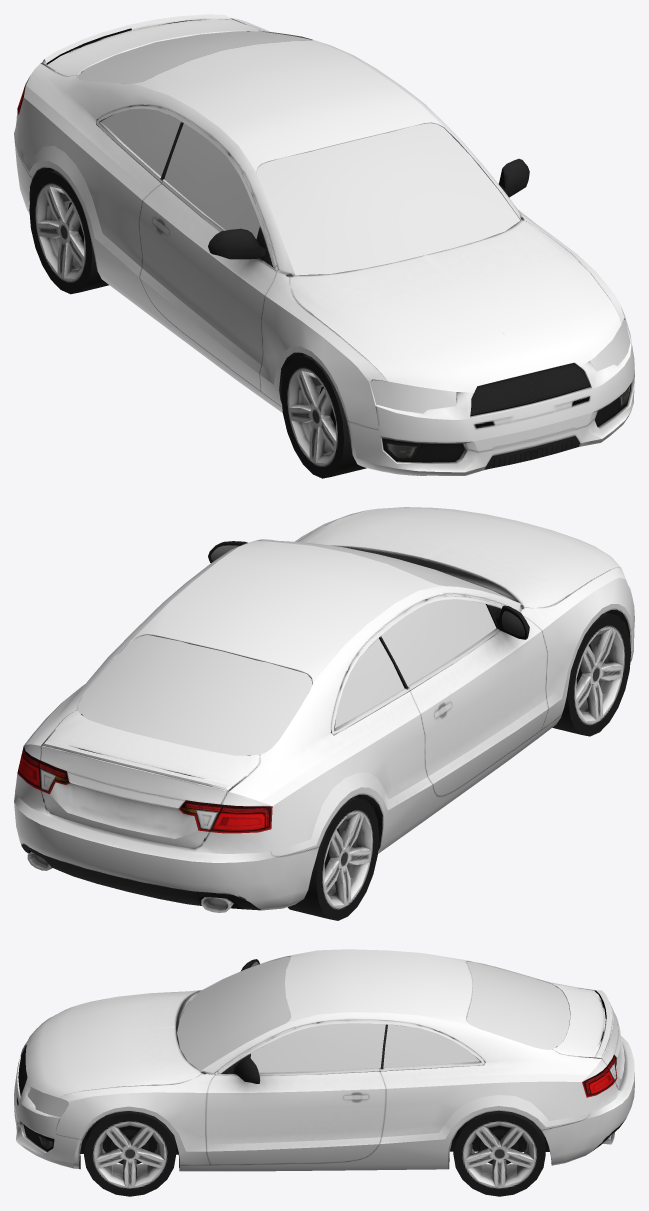
The picture shows the model from 3 angles, top to bottom: view 1: azimuth 30°, elevation 25°; view 2: azimuth 150°, elevation 25°; view 3: azimuth 270°, elevation 25°; orthographic projection. The views are drawn at different scales.
Parts seen in each view (by area): view 1: Body_2, Glass_2, Matte_2, Wheel_R.001, Wheel_Back_R.001, Glass_light.001; view 2: Body_2, Glass_2, Matte_2, Wheel_Back_R.001, Wheel_R.001, Taillights_2; view 3: Body_2, Glass_2, Wheel_Back_L.001, Wheel_L.001, Matte_2, Taillights_2, Glass_light.001.
Boxes of the visible parts, left/top/right/bottom form: Body_2: left=14, top=14, right=634, bottom=475; Glass_2: left=77, top=31, right=520, bottom=275; Matte_2: left=29, top=105, right=630, bottom=469; Wheel_R.001: left=281, top=355, right=366, bottom=478; Wheel_Back_R.001: left=29, top=170, right=108, bottom=294; Glass_light.001: left=370, top=319, right=630, bottom=413; Body_2: left=14, top=507, right=634, bottom=910; Glass_2: left=77, top=540, right=512, bottom=755; Matte_2: left=21, top=541, right=629, bottom=912; Wheel_Back_R.001: left=287, top=797, right=379, bottom=920; Wheel_R.001: left=552, top=612, right=631, bottom=736; Taillights_2: left=17, top=746, right=272, bottom=833; Body_2: left=14, top=949, right=634, bottom=1171; Glass_2: left=177, top=956, right=570, bottom=1072; Wheel_Back_L.001: left=453, top=1110, right=545, bottom=1196; Wheel_L.001: left=84, top=1111, right=176, bottom=1196; Matte_2: left=18, top=959, right=624, bottom=1169; Taillights_2: left=582, top=1055, right=617, bottom=1097; Glass_light.001: left=27, top=1087, right=68, bottom=1117.
Size of the model in its own units: 203 by 140 by 466.
